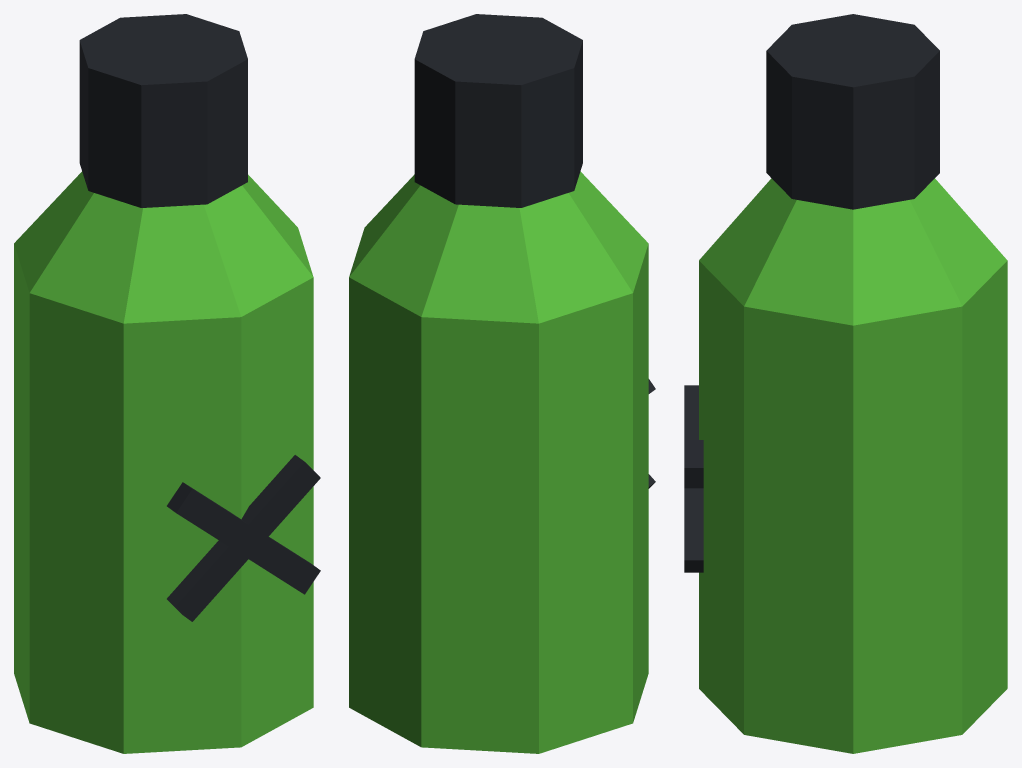
The model's file is poison.glb.
The picture shows the model from 3 angles, left to right: view 1: azimuth 30°, elevation 25°; view 2: azimuth 150°, elevation 25°; view 3: azimuth 270°, elevation 25°; orthographic projection.
Parts seen in each view (by area): view 1: m; view 2: m; view 3: m.
Part boxes in pixels (left/top/right/bottom): m: left=14, top=14, right=320, bottom=753; m: left=349, top=14, right=655, bottom=753; m: left=684, top=14, right=1007, bottom=753.
Bounding box in the file's own units: 0.0324 × 0.075 × 0.034.
